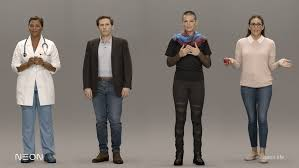human: (222, 10, 296, 165), (78, 11, 138, 164), (9, 12, 65, 164), (165, 8, 217, 164)
